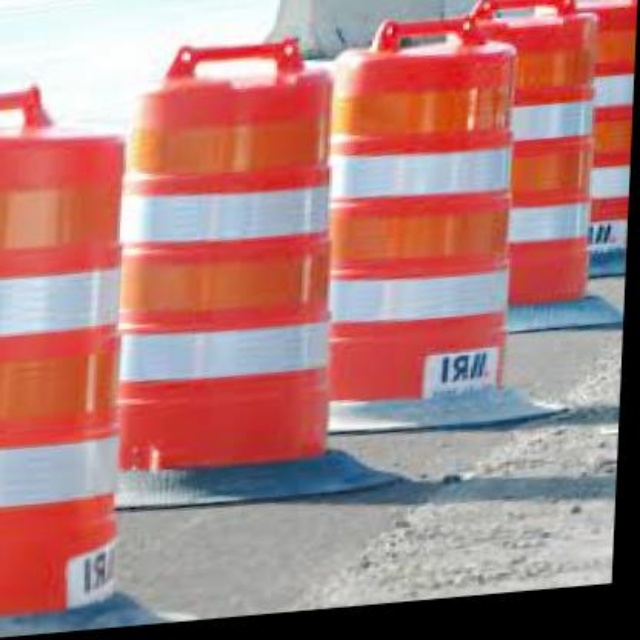obstacle: (113, 67, 346, 492), (323, 30, 541, 428)
